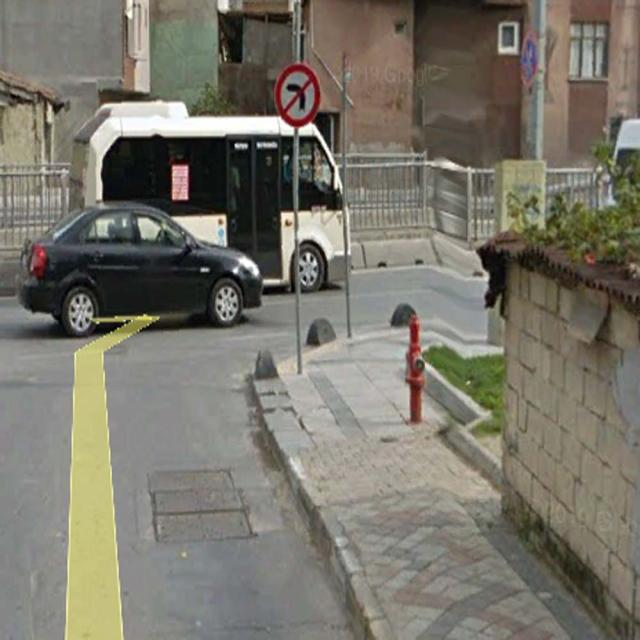soladonulmez: (274, 64, 321, 124)
